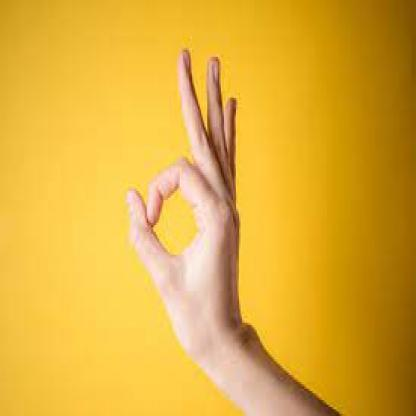ok: (124, 41, 249, 374)
